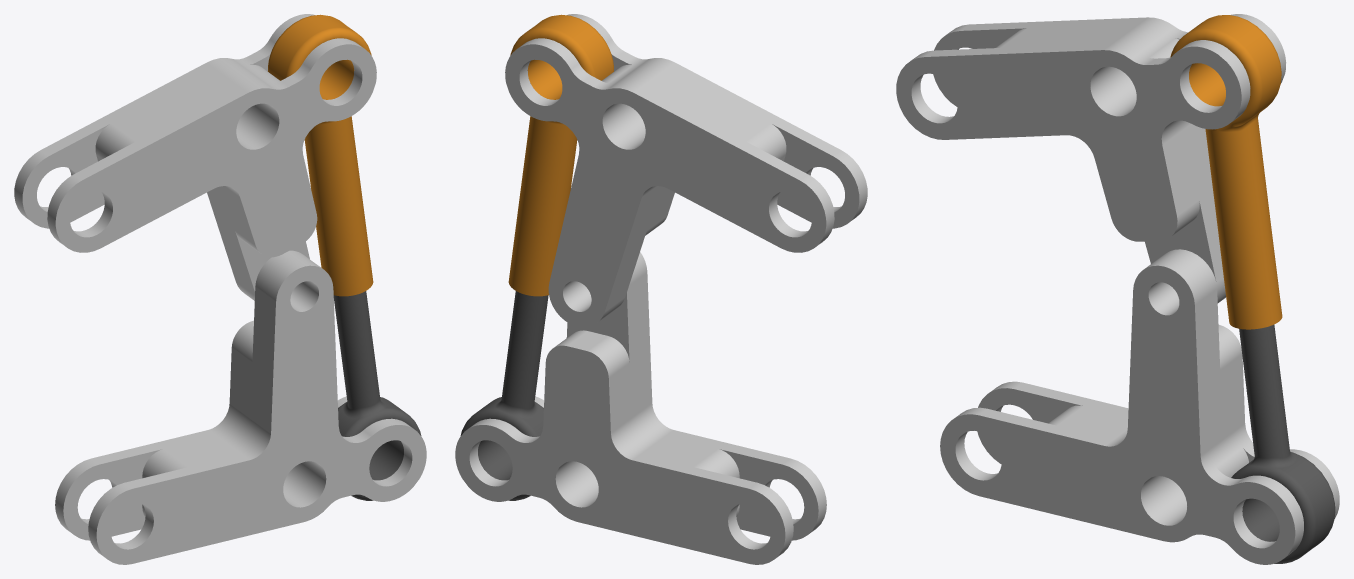
Rendered from Piston Linkage v3.fbx.
The picture shows the model from 3 angles, left to right: view 1: azimuth 30°, elevation 25°; view 2: azimuth 150°, elevation 25°; view 3: azimuth 330°, elevation 25°; orthographic projection. The views are drawn at different scales.
Visible parts, largest first — view 1: Arm (1), Arm, Piston - Outer, Piston - Inner; view 2: Arm, Arm (1), Piston - Outer, Piston - Inner; view 3: Arm (1), Arm, Piston - Outer, Piston - Inner.
Part boxes in pixels (box(x1,y1,x2,y2)): Arm (1): box(55, 250, 426, 564); Arm: box(14, 14, 376, 300); Piston - Outer: box(268, 14, 373, 296); Piston - Inner: box(333, 291, 421, 500); Arm: box(505, 14, 867, 327); Arm (1): box(455, 252, 826, 564); Piston - Outer: box(508, 14, 613, 296); Piston - Inner: box(460, 291, 548, 500); Arm (1): box(940, 249, 1339, 564); Arm: box(896, 14, 1286, 303); Piston - Outer: box(1170, 15, 1282, 329); Piston - Inner: box(1231, 324, 1335, 563).
Size of the model in its own units: 263 by 321 by 50.
